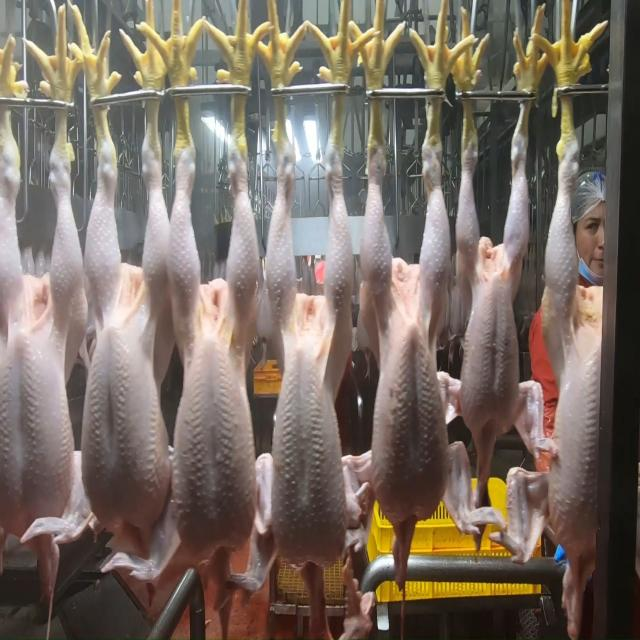chicken: (0, 1, 608, 638), (262, 188, 356, 566), (169, 177, 261, 558), (354, 194, 453, 538), (82, 171, 171, 541), (0, 169, 87, 534), (539, 181, 610, 547), (451, 178, 533, 460)
